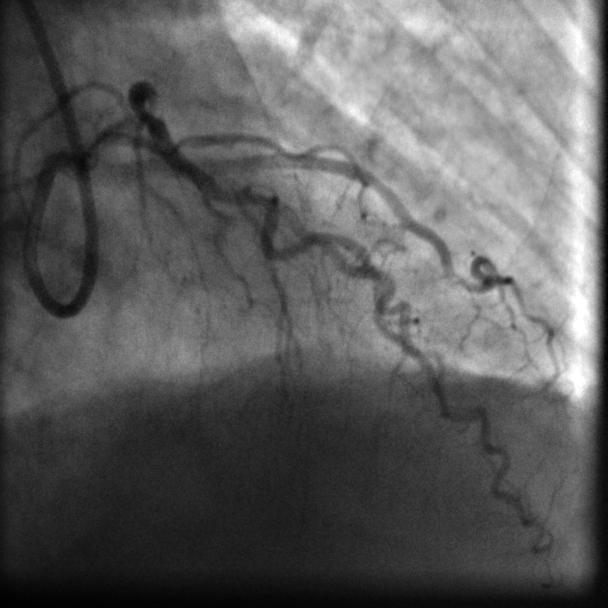Stenosis: (129, 93, 162, 132)
